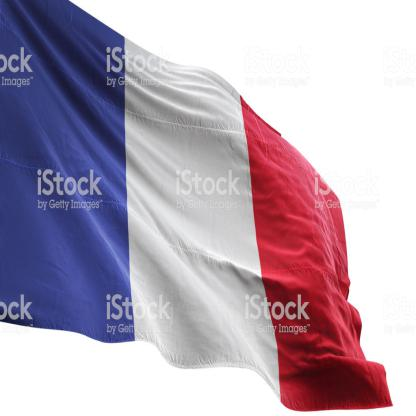fr: (3, 4, 395, 414)
